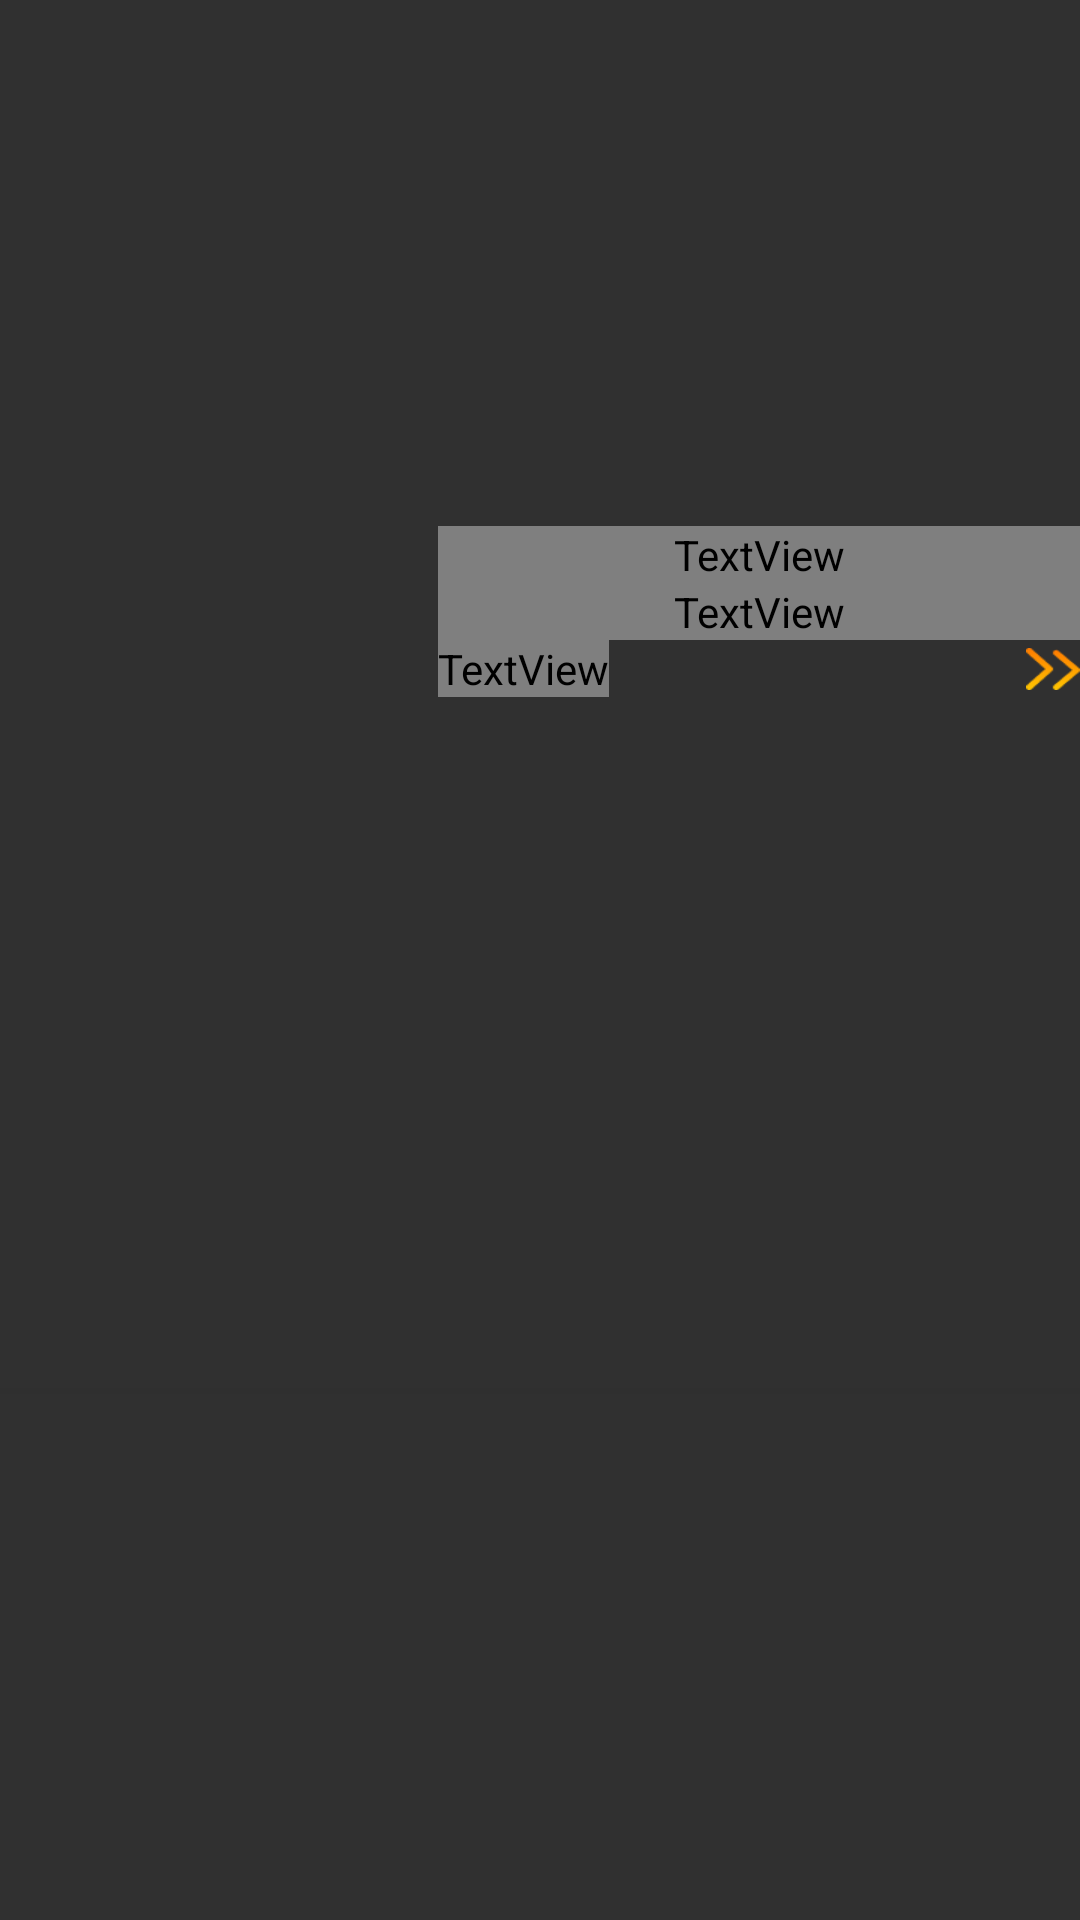

Where icons sit on this 1080×1920 app screen, as (x1, y1, x2, y2):
arrows kavedarm: (1026, 648, 1080, 690)
